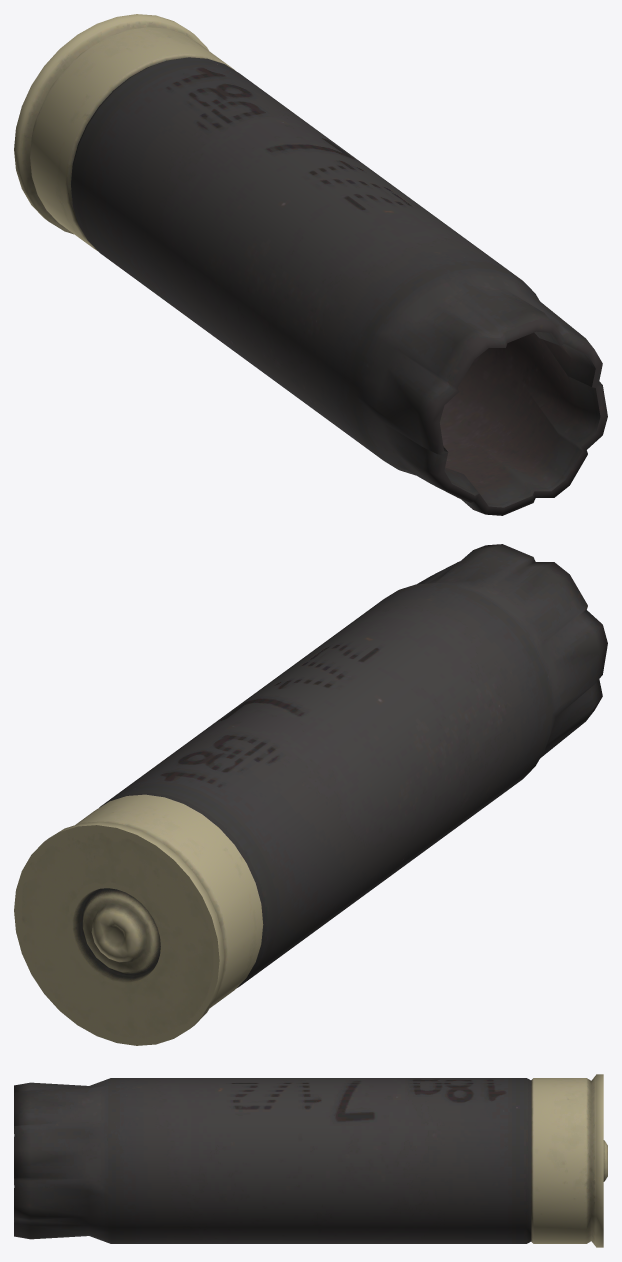
Rendered from casing_nova_casing.glb.
3 views of the same model, one above another, from view 1: azimuth 30°, elevation 25°; view 2: azimuth 150°, elevation 25°; view 3: azimuth 270°, elevation 25° (orthographic). The views are drawn at different scales.
Visible parts, largest first — view 1: casing_nova_casing; view 2: casing_nova_casing; view 3: casing_nova_casing.
Part boxes in pixels (bbox=[...]): casing_nova_casing: bbox=[14, 14, 607, 515]; casing_nova_casing: bbox=[14, 544, 607, 1045]; casing_nova_casing: bbox=[14, 1074, 607, 1247].
Bounding box in the file's own units: 0.0177 × 0.0177 × 0.0606.
Materials: 1 (1 with a texture image).
